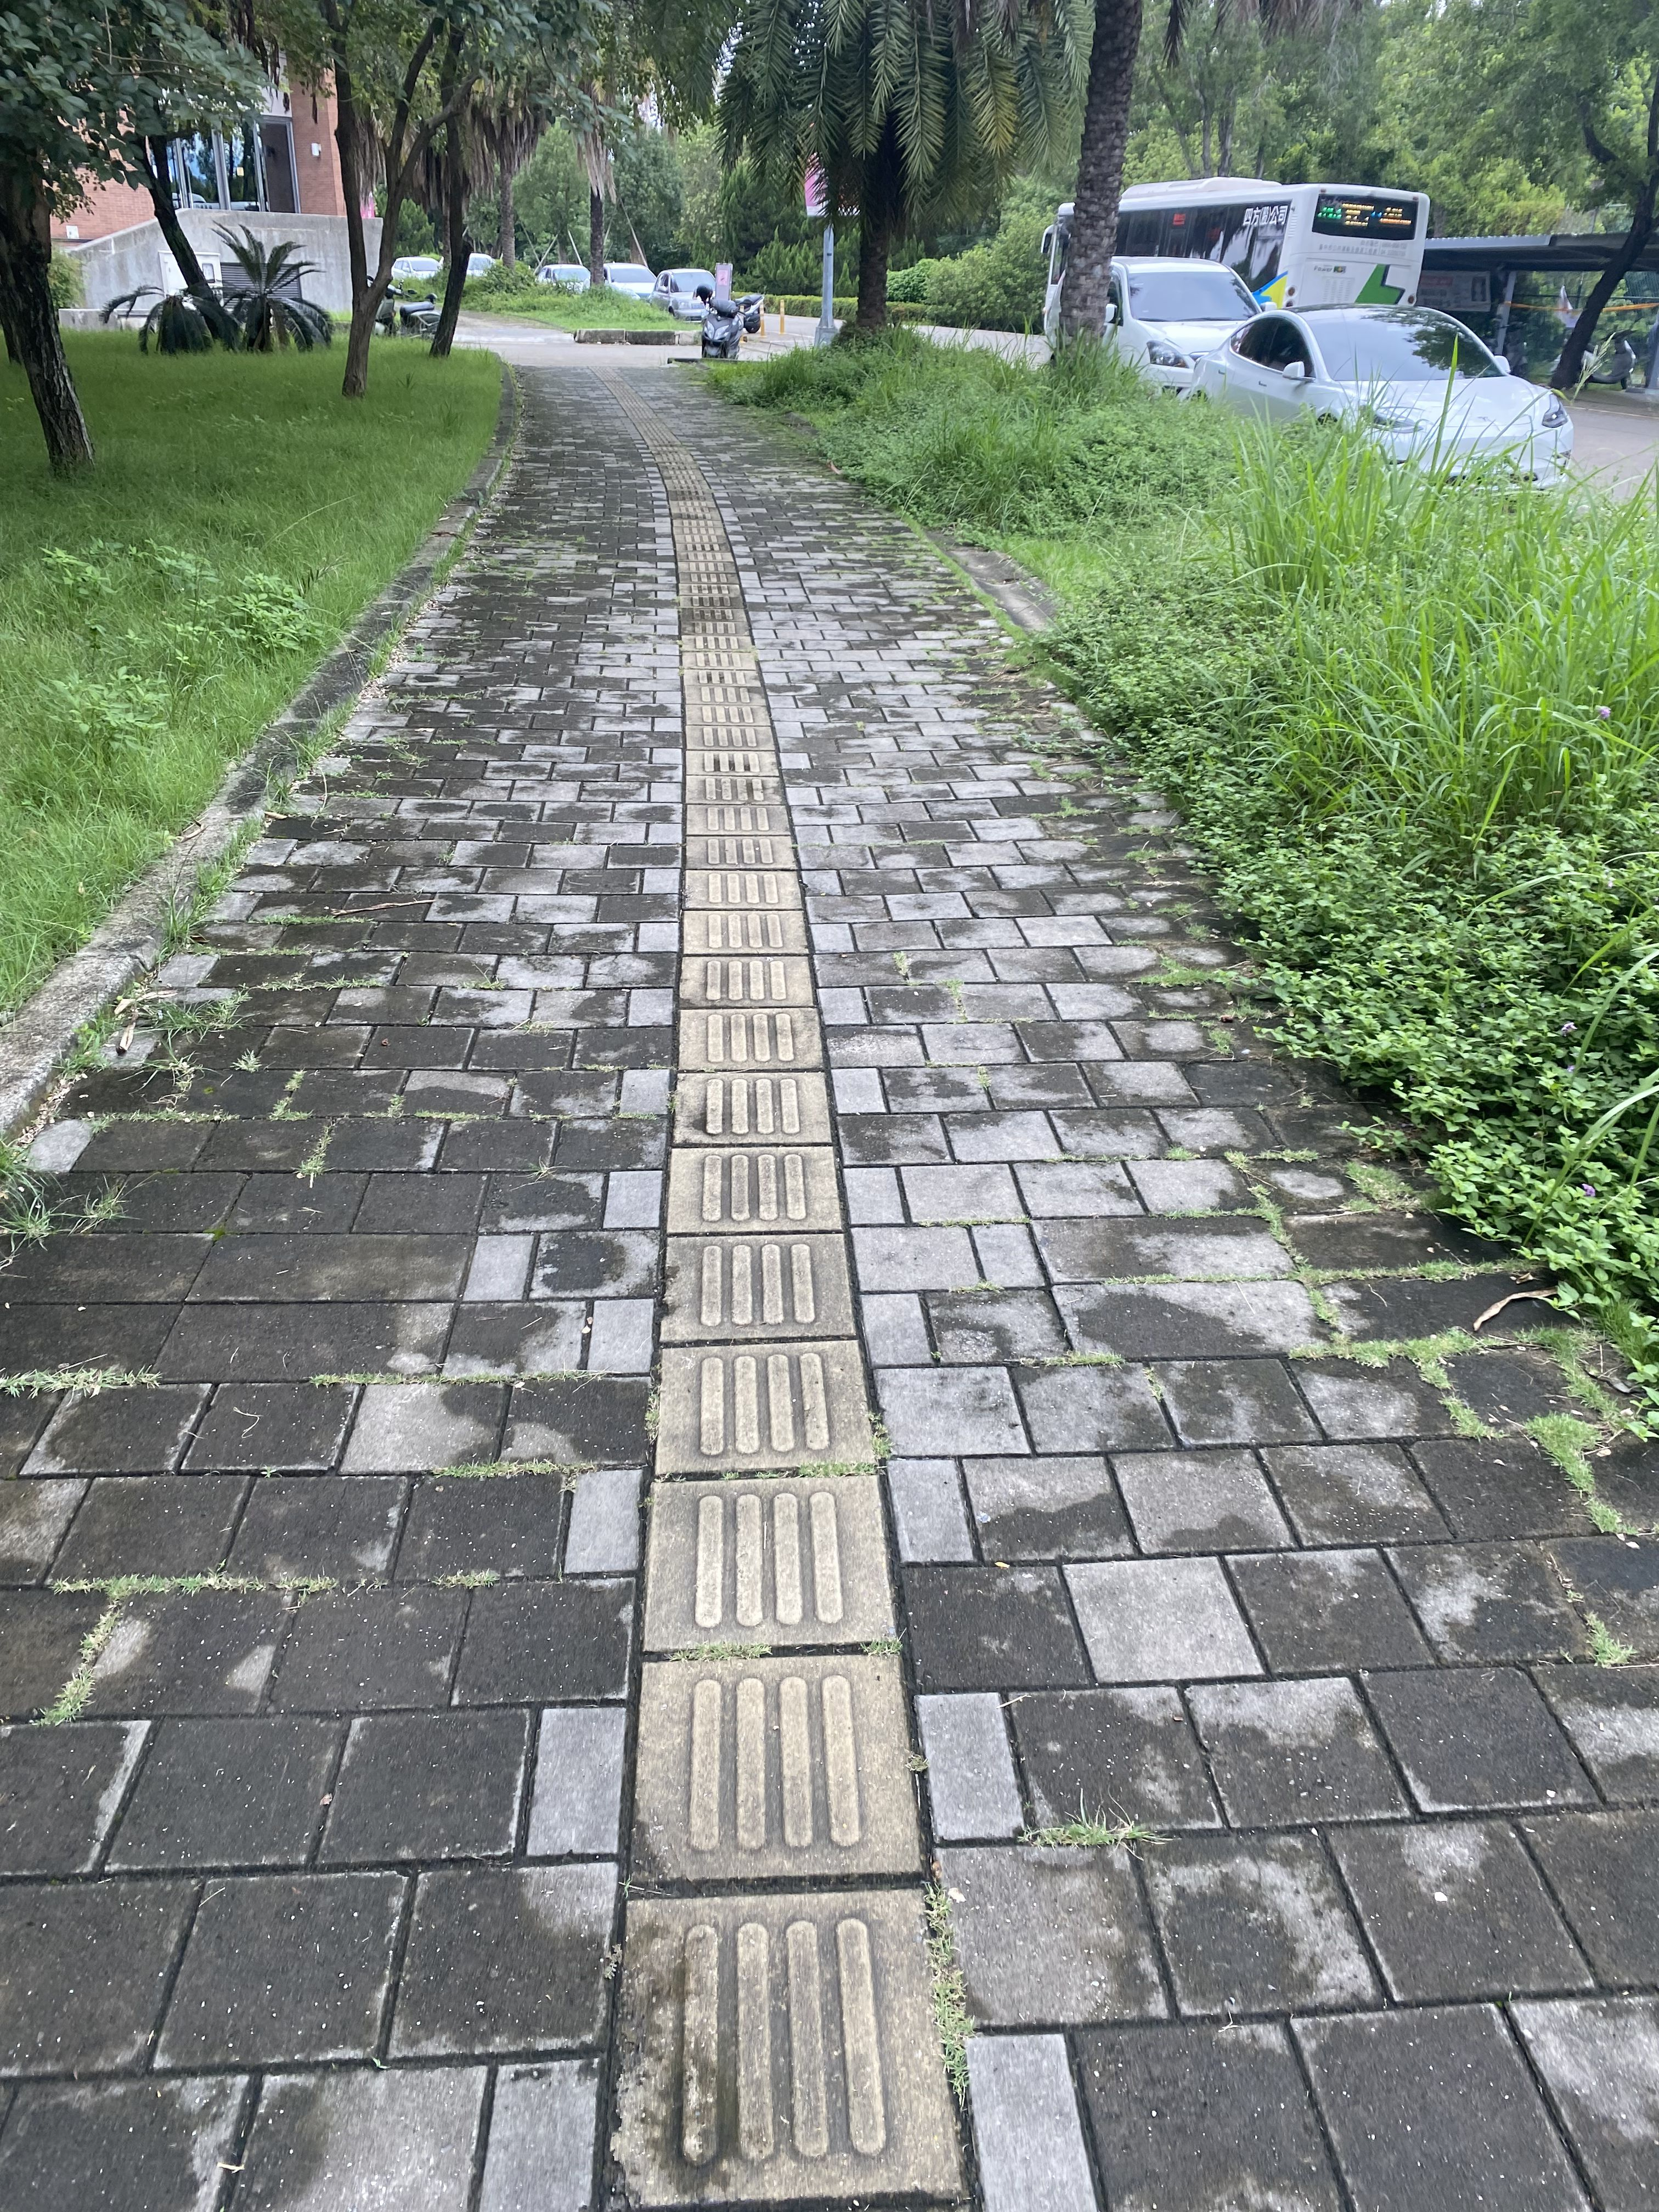sidewalk: (0, 319, 1659, 2212)
